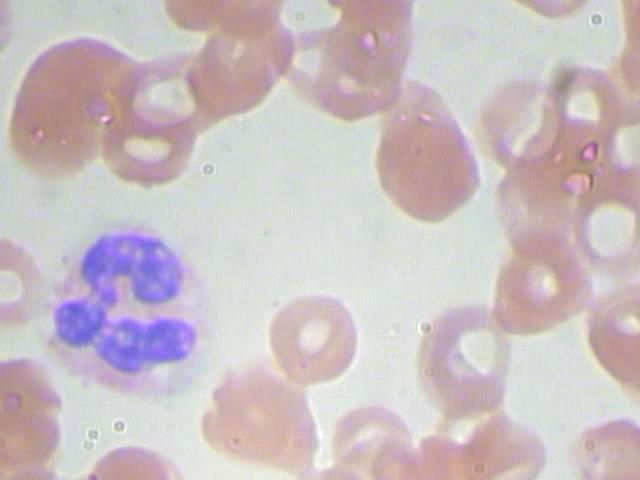RBC: (369, 77, 486, 223), (405, 288, 517, 420), (255, 283, 371, 392), (184, 12, 299, 118), (105, 34, 220, 140), (466, 57, 564, 174), (500, 214, 599, 325), (90, 98, 200, 189), (203, 365, 313, 456), (318, 396, 427, 480), (547, 48, 638, 144), (574, 160, 639, 281), (455, 404, 555, 480), (324, 402, 424, 478)
WBC: (31, 208, 238, 406)
